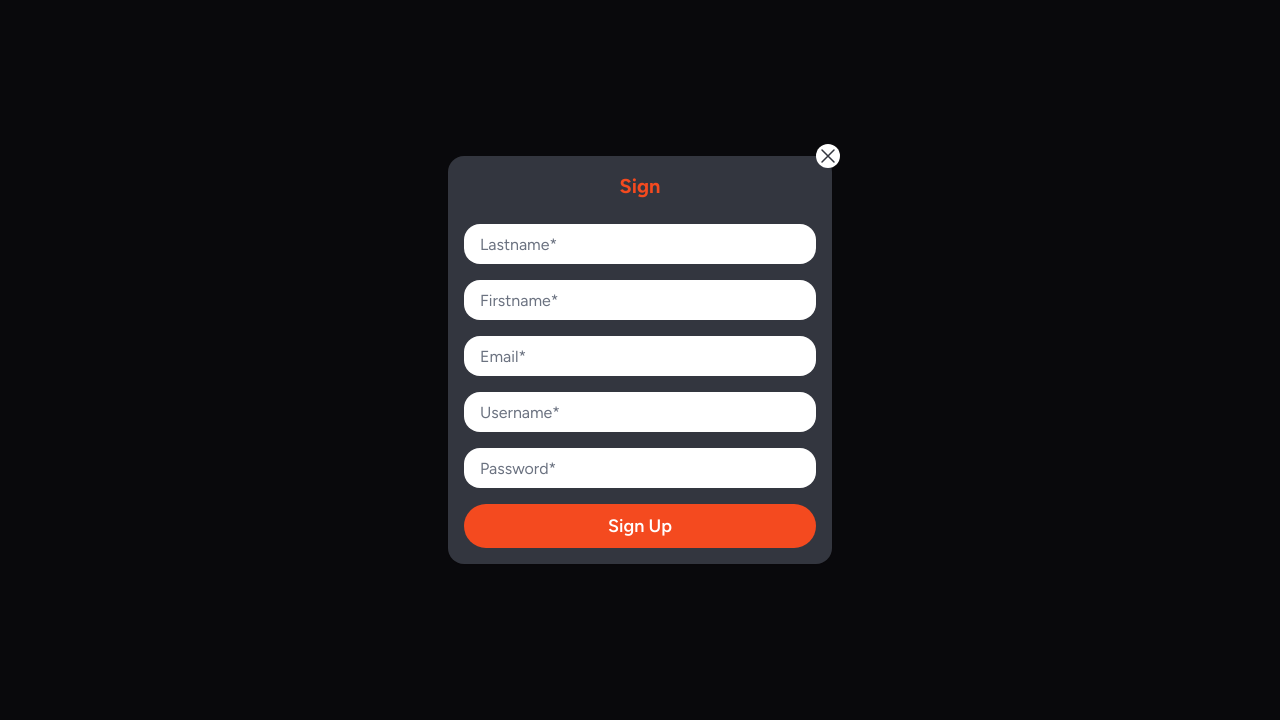
Test: Sign up Modal › should enter username in used. Return 400 Username is used
Type "Bond" into the field with placeholder "Lastname*". click: (640, 244)
box: top-left (464, 228), bottom-right (816, 260)
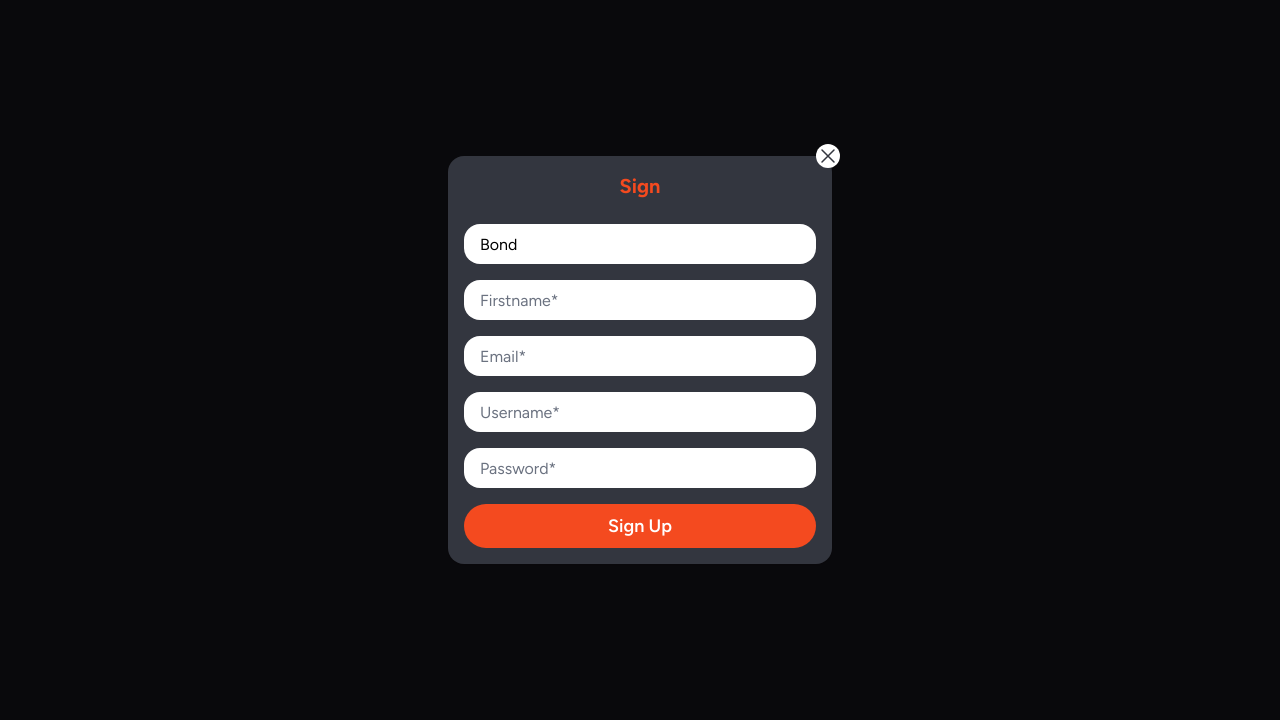
Type "James" into the field with placeholder "Firstname*". click: (640, 300)
box: top-left (464, 284), bottom-right (816, 316)
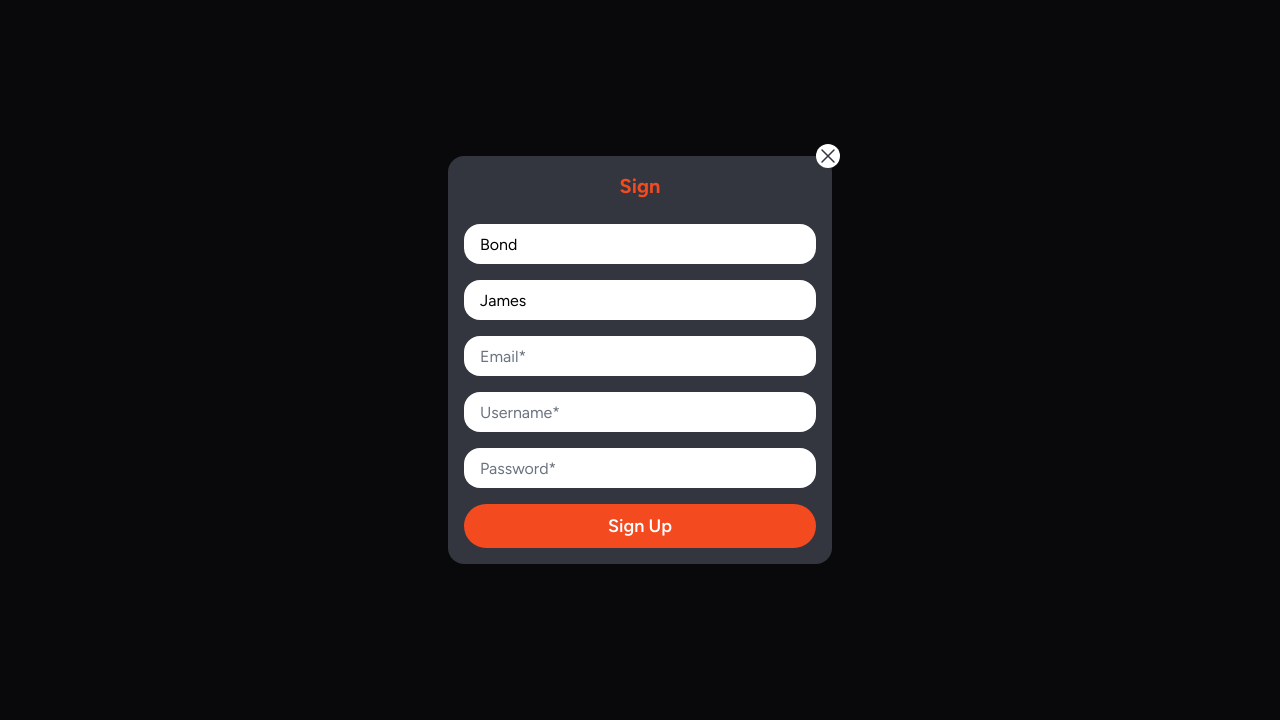
Type "test@gmail.com" into the field with placeholder "Email*". click: (640, 356)
box: top-left (464, 340), bottom-right (816, 372)
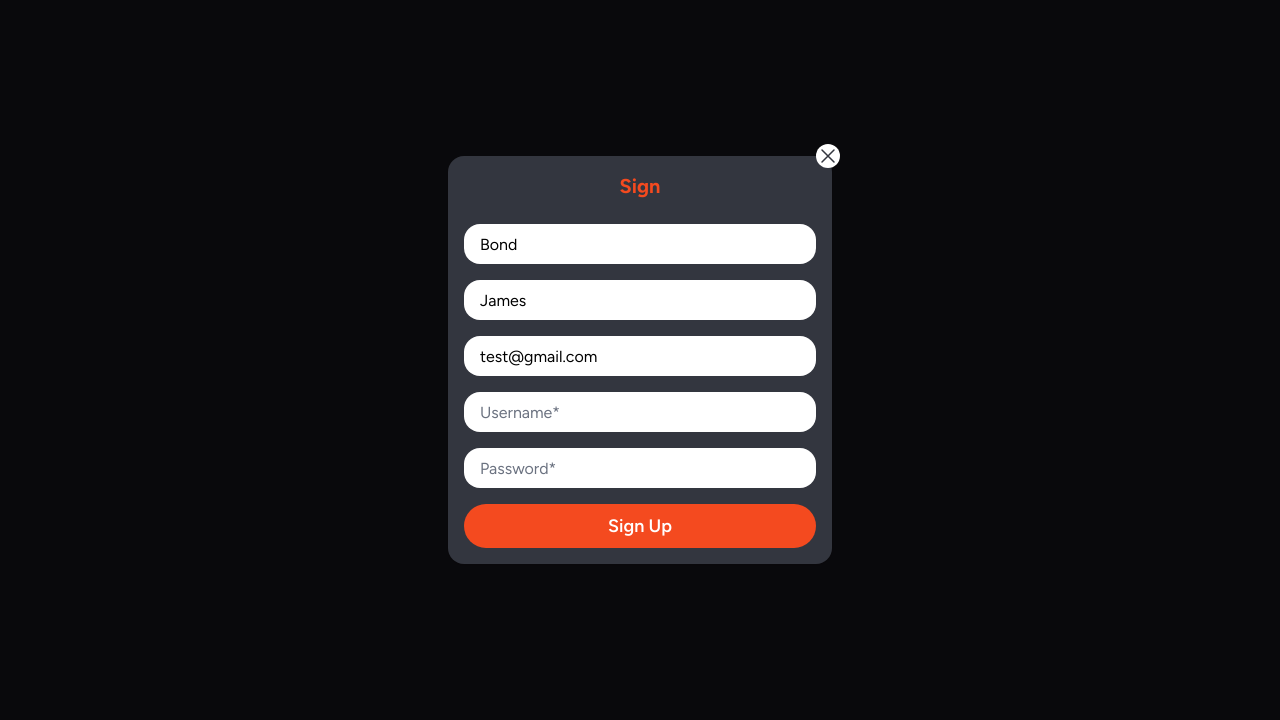
Type "used" into the field with placeholder "Username*". click: (640, 412)
box: top-left (464, 396), bottom-right (816, 428)
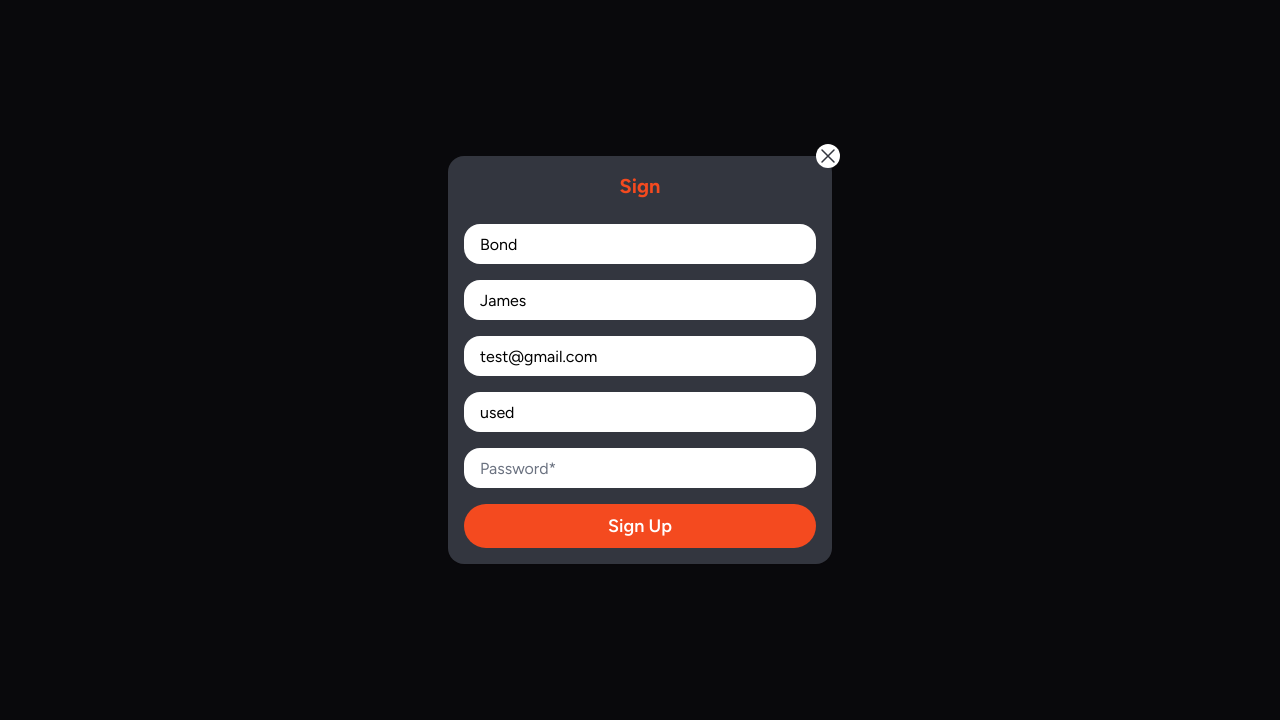
Type "passowrd123" into the password field with placeholder "Password*". click: (640, 468)
box: top-left (464, 452), bottom-right (816, 484)
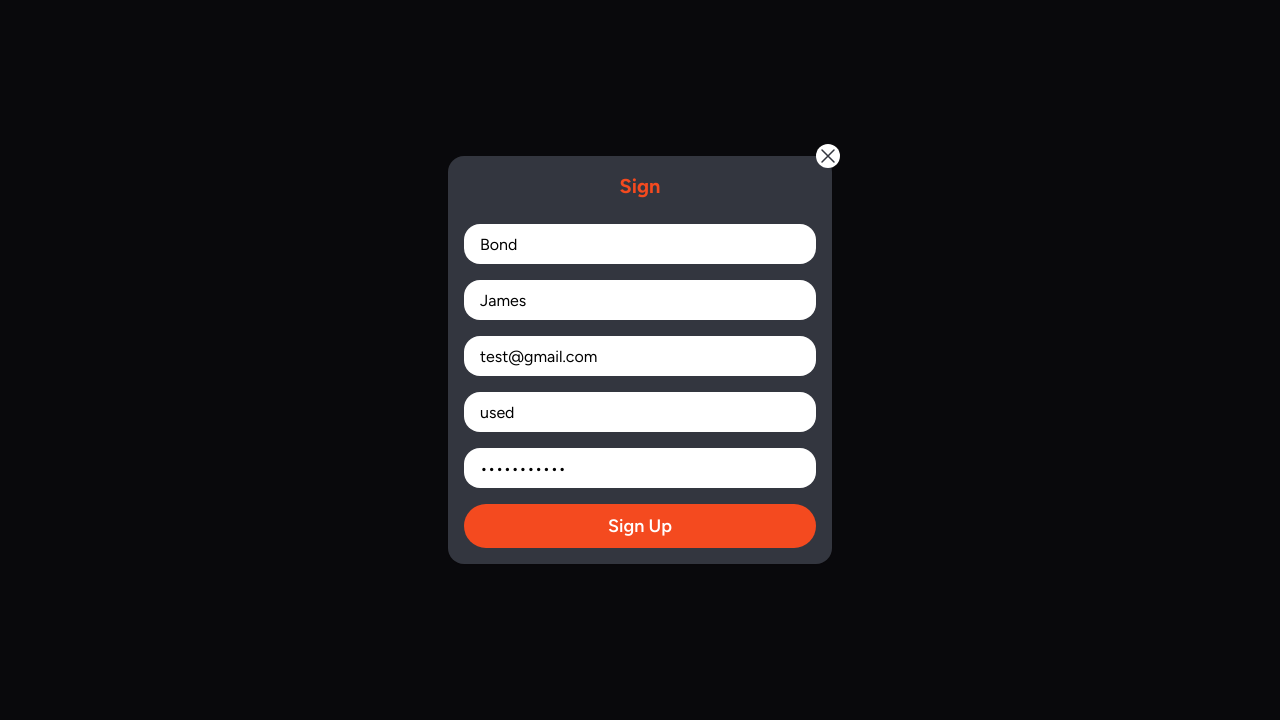
Click the button "Sign Up". click: (640, 526)
box: top-left (464, 504), bottom-right (816, 548)
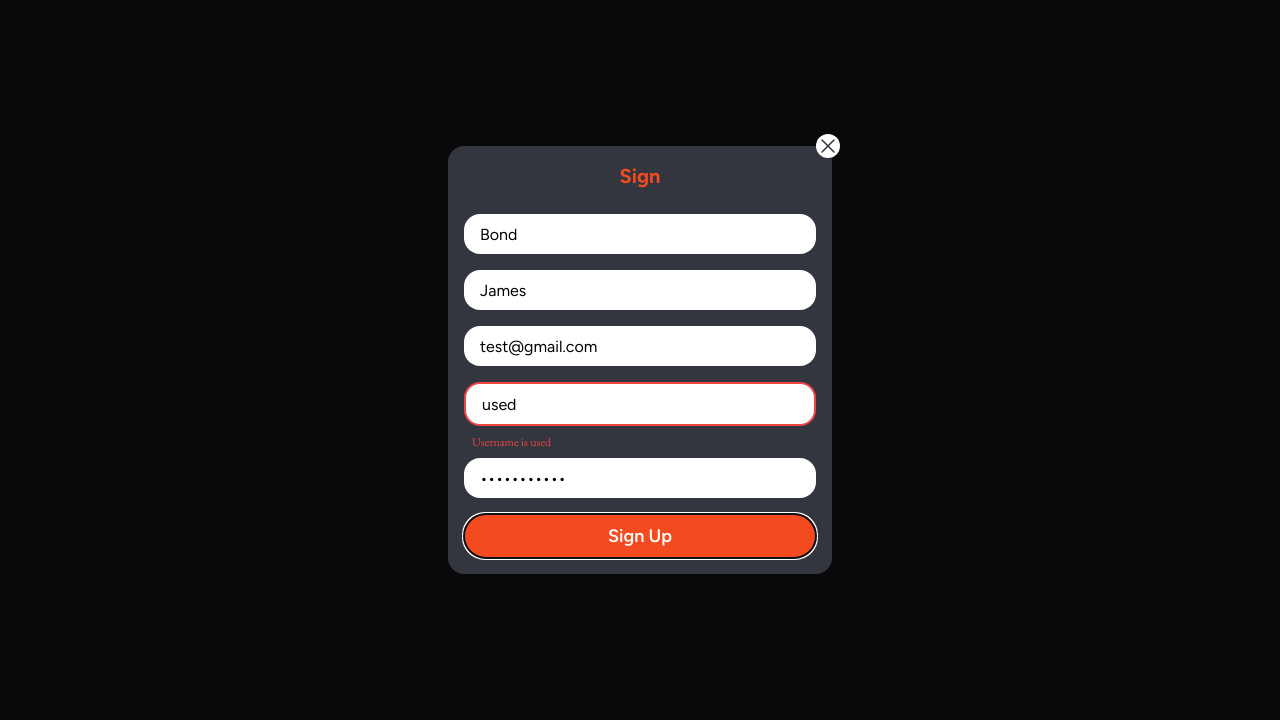
Now the text "Username is used" is shown, box top-left (472, 434), bottom-right (551, 450)
